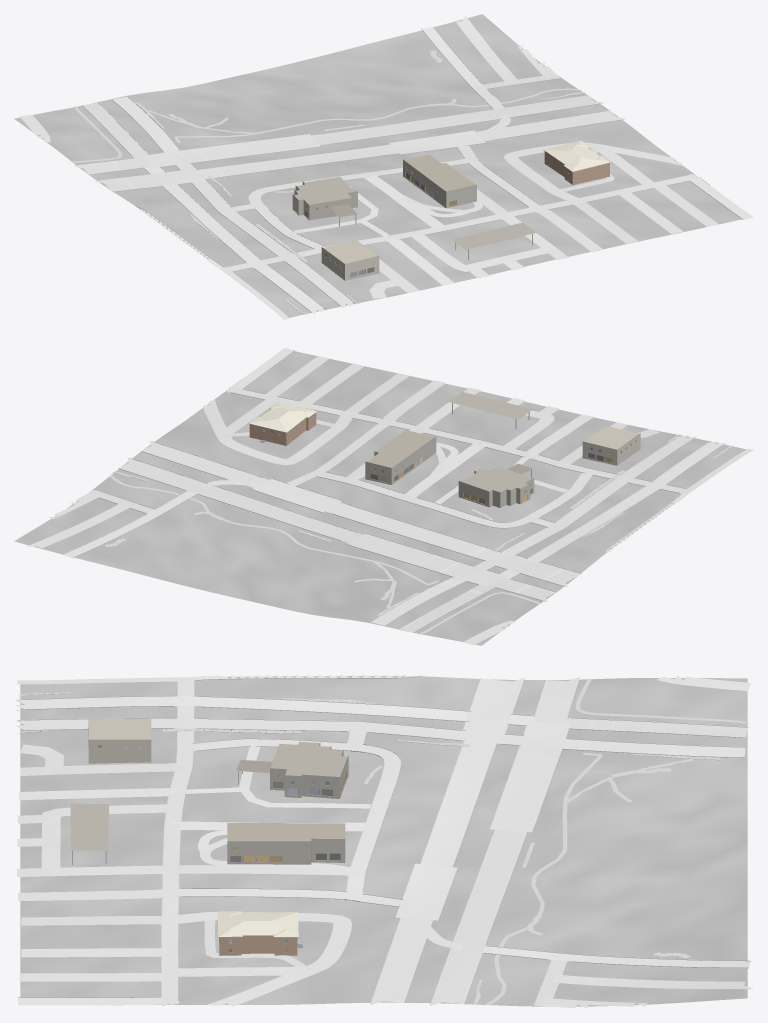
3 renders of one model, top to bottom at view 1: azimuth 30°, elevation 25°; view 2: azimuth 150°, elevation 25°; view 3: azimuth 270°, elevation 25°, orthographic. The views are drawn at different scales.
Parts seen in each view (by area): view 1: ground, concrete, asphalt, curb, roof_flat, wall_com, walk, mark_w, roof, wall; view 2: ground, asphalt, concrete, curb, roof_flat, wall_com, walk, roof, mark_w, wall; view 3: ground, concrete, asphalt, roof_flat, curb, wall_com, walk, mark_w, roof, wall, mark_y.
Part boxes in pixels (x1,y1,x2,y2): ground: (14,14,741,317); concrete: (19,16,753,319); asphalt: (73,95,625,313); curb: (76,27,743,313); roof_flat: (294,154,536,263); wall_com: (292,159,532,280); walk: (72,50,585,314); mark_w: (80,95,623,191); roof: (544,140,610,171); wall: (544,148,609,184); ground: (14,351,746,645); asphalt: (120,435,725,632); concrete: (26,348,753,645); curb: (62,350,729,632); roof_flat: (367,392,638,492); wall_com: (365,393,640,507); walk: (105,434,730,634); roof: (249,401,316,432); mark_w: (123,443,580,631); wall: (249,409,316,445); ground: (20,676,747,1006); concrete: (17,674,753,1008); asphalt: (14,677,747,1005); roof_flat: (70,718,347,850); curb: (16,675,750,1005); wall_com: (72,727,348,864); walk: (18,678,750,1005); mark_w: (371,678,747,1003); roof: (217,911,298,936); wall: (219,936,297,955); mark_y: (403,680,744,1003).
Size of the model in its own units: 254 by 14.78 by 254.
